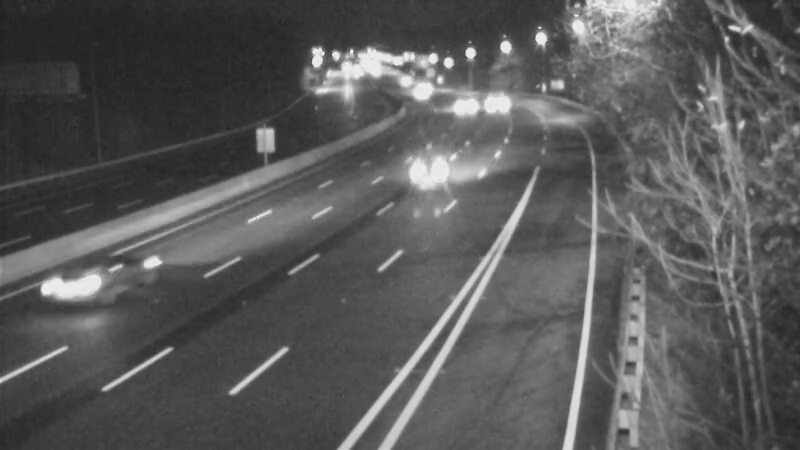vehicle: (385, 138, 465, 218), (36, 243, 116, 323), (395, 70, 445, 120), (436, 78, 486, 128), (469, 70, 519, 120)
